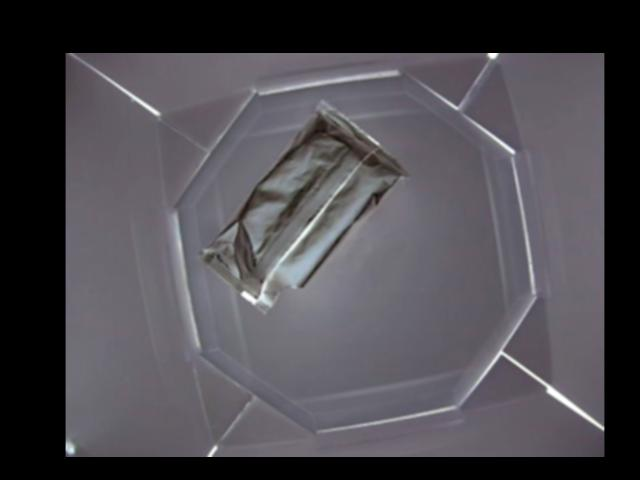Medicine: (201, 101, 406, 315)
